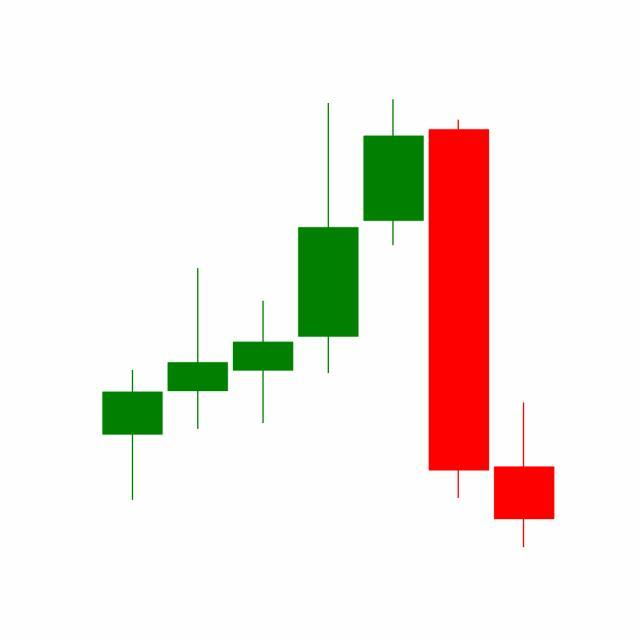Three Line Strike: (230, 100, 492, 504)
